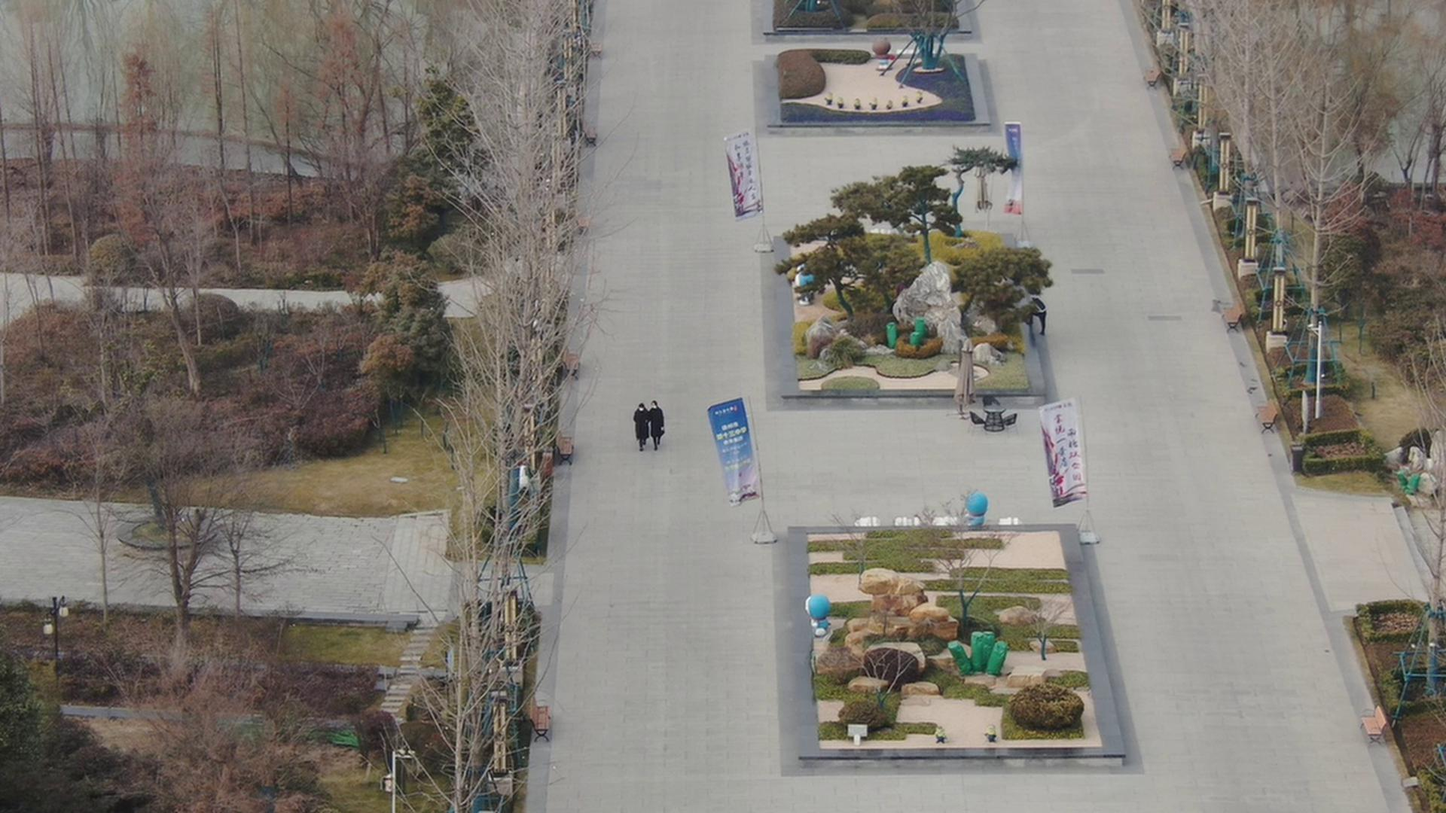class_2: (626, 399, 663, 460)
human: (180, 662, 203, 724)
